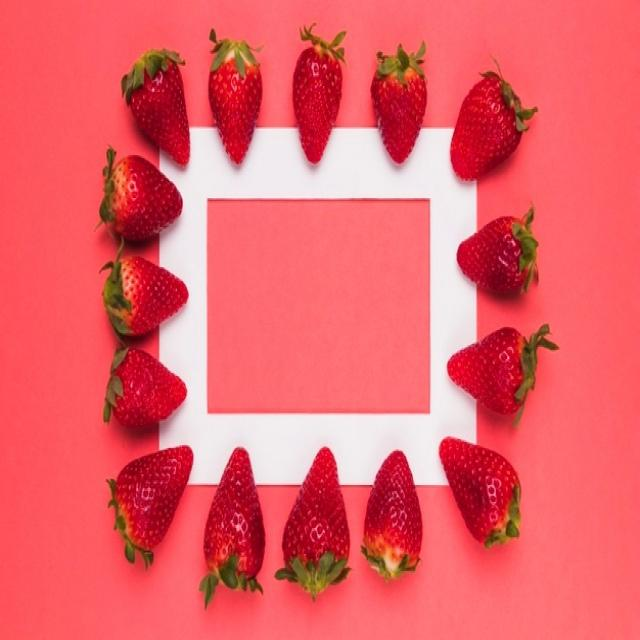strawberry: (283, 447, 352, 591), (438, 436, 524, 546), (204, 448, 267, 594), (110, 446, 196, 550), (122, 49, 194, 169), (451, 329, 540, 422), (98, 150, 185, 244), (451, 71, 525, 181), (363, 449, 425, 578), (101, 253, 191, 335), (210, 36, 262, 168), (294, 29, 342, 164), (110, 348, 189, 430), (371, 51, 426, 164), (457, 218, 537, 293)
